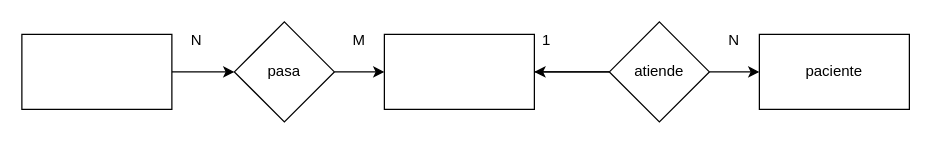
Image size: 931x144. Some labels were removed from this diagram. The centre of each missing label's shape, as x and y in pixels:
"médico" goes at point 458,71.
"sala" goes at point 96,71.
